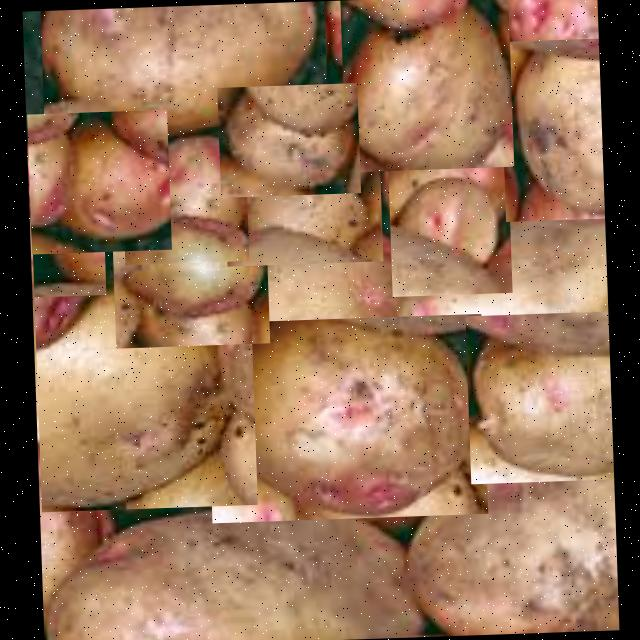Diseased-fungal potato: (39, 478, 455, 640), (204, 312, 487, 522), (32, 272, 257, 510), (388, 422, 619, 637), (392, 191, 610, 382), (38, 0, 327, 131), (205, 216, 428, 374), (338, 0, 513, 171), (464, 310, 614, 483), (110, 184, 268, 347), (26, 108, 170, 253), (222, 138, 382, 265), (498, 38, 604, 220), (119, 120, 248, 264), (386, 160, 512, 296), (215, 82, 360, 196), (28, 188, 106, 296)
